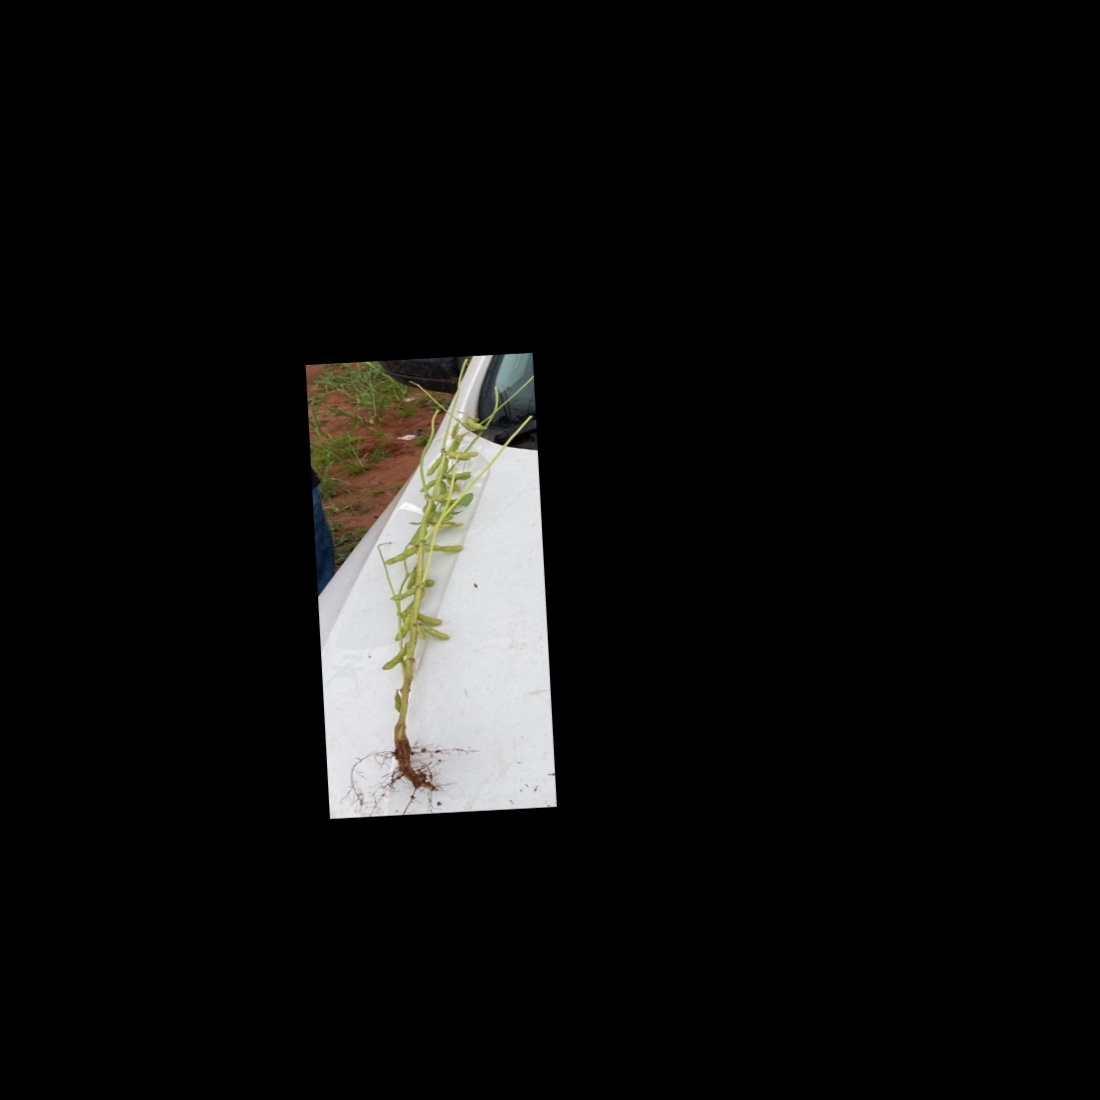pod: (372, 641, 409, 672), (380, 541, 422, 568), (420, 623, 452, 643), (388, 584, 418, 604), (429, 541, 464, 555), (415, 610, 443, 627), (390, 690, 403, 714)
soy: (362, 380, 507, 788)
